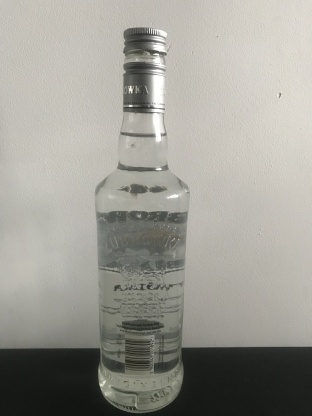nakretka: (121, 26, 168, 113)
